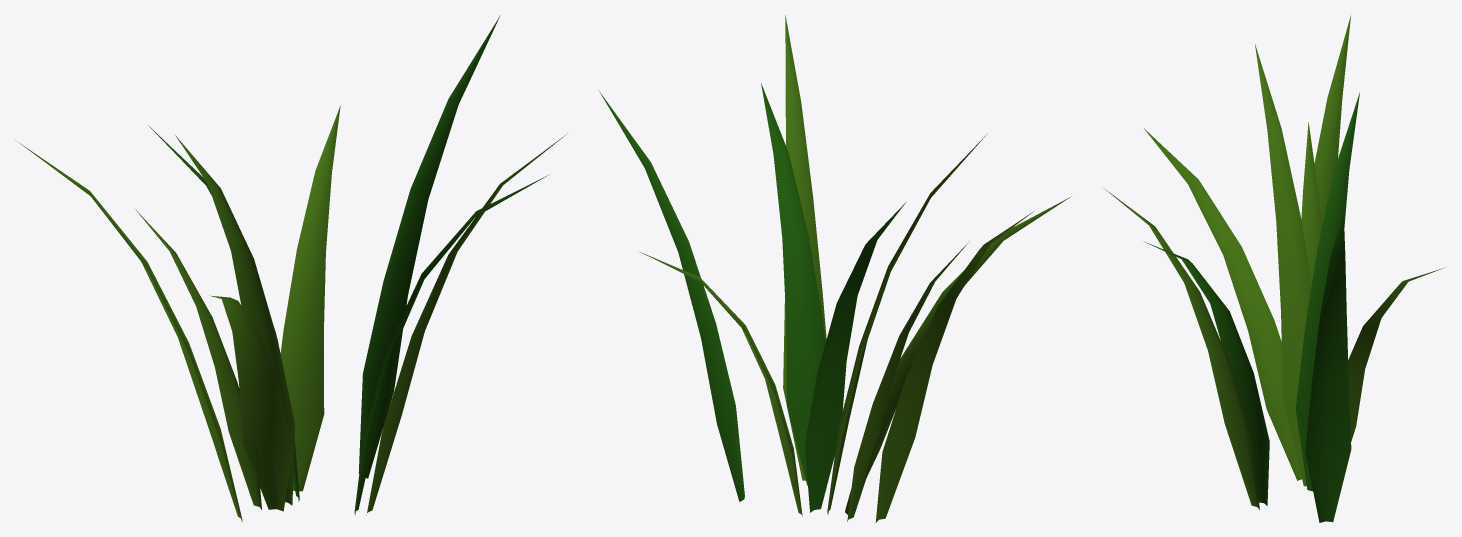
File: Wheat_1.obj
The picture shows the model from 3 angles, left to right: view 1: azimuth 30°, elevation 25°; view 2: azimuth 150°, elevation 25°; view 3: azimuth 270°, elevation 25°; orthographic projection. The views are drawn at different scales.
Parts seen in each view (by area): view 1: Wheat_1; view 2: Wheat_1; view 3: Wheat_1.
Boxes of the visible parts, x1,y1,x2,y2 form: Wheat_1: [15, 15, 567, 522]; Wheat_1: [599, 15, 1071, 522]; Wheat_1: [1102, 15, 1445, 522].
Size of the model in its own units: 0.358 by 0.3032 by 0.2506.
